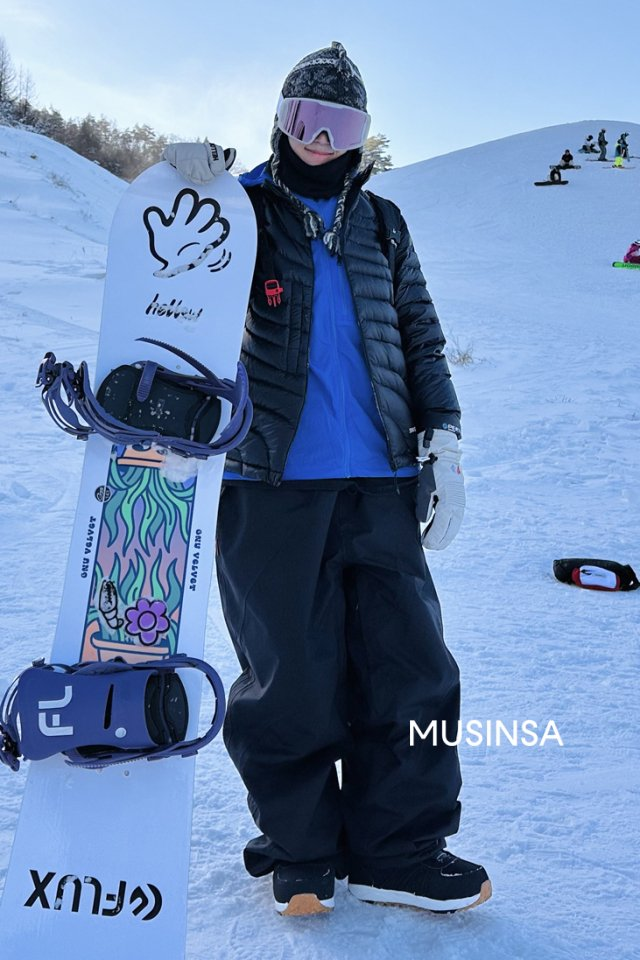Beanie: (274, 37, 373, 116)
Glasses: (272, 97, 377, 152)
Pants: (212, 461, 464, 865)
Shoes: (264, 839, 501, 924)
Top: (184, 182, 477, 483)
